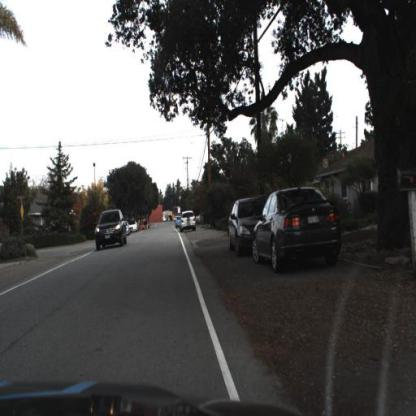car: (253, 185, 339, 273), (227, 196, 269, 255), (93, 208, 129, 256)
